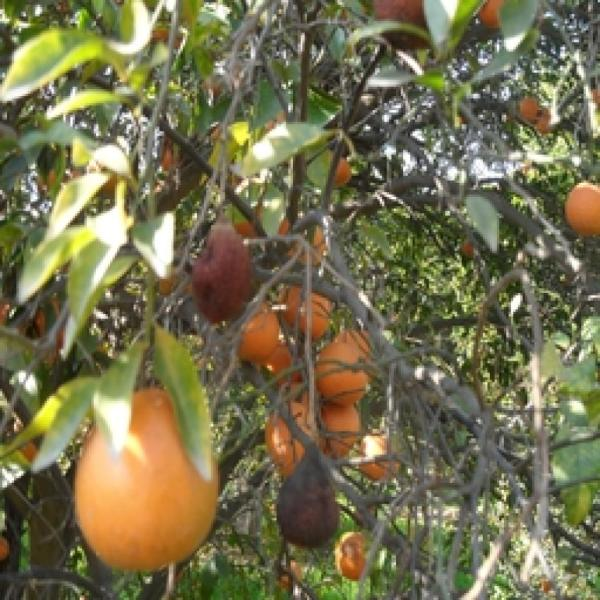Canker: (190, 216, 258, 330), (274, 443, 342, 547), (368, 0, 451, 53), (333, 530, 377, 581)
Sana: (69, 384, 224, 568), (312, 337, 378, 402), (276, 280, 340, 336), (273, 211, 329, 271), (311, 399, 363, 460), (231, 305, 282, 367), (555, 173, 600, 240), (264, 412, 308, 478), (358, 431, 402, 488), (508, 91, 563, 134), (475, 0, 530, 41), (319, 157, 361, 198)
